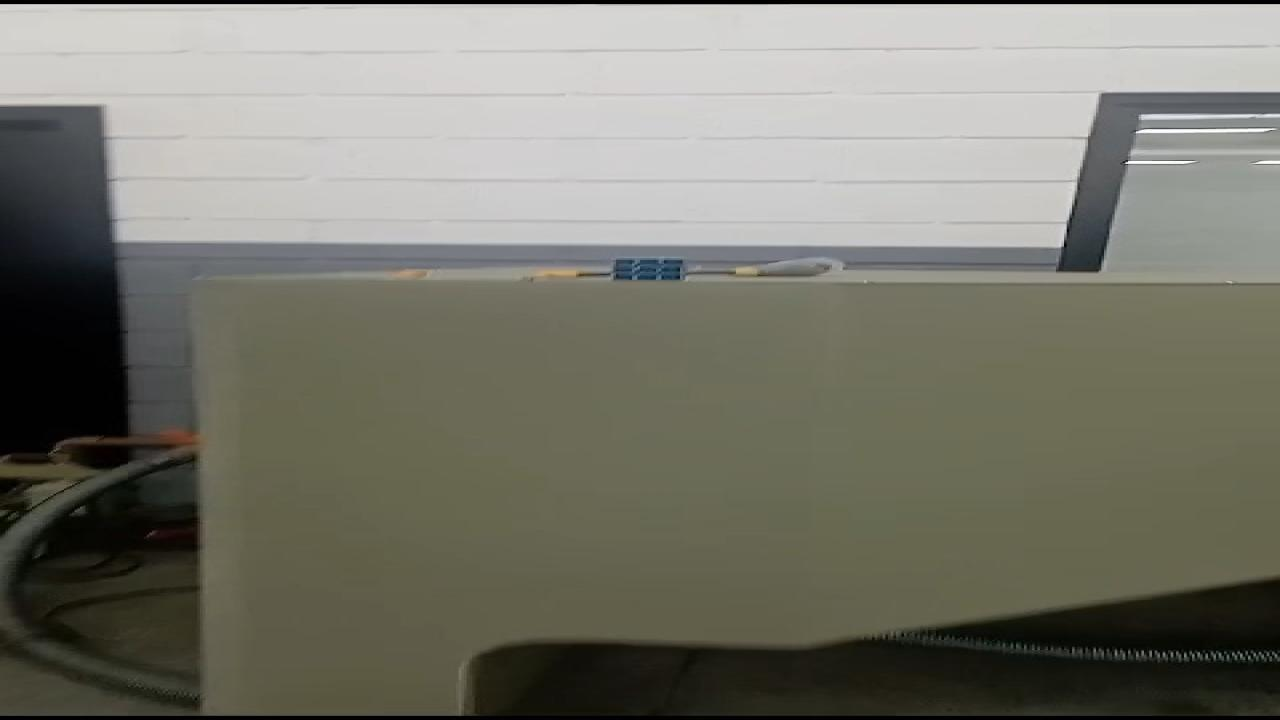Cube: (610, 256, 693, 284)
